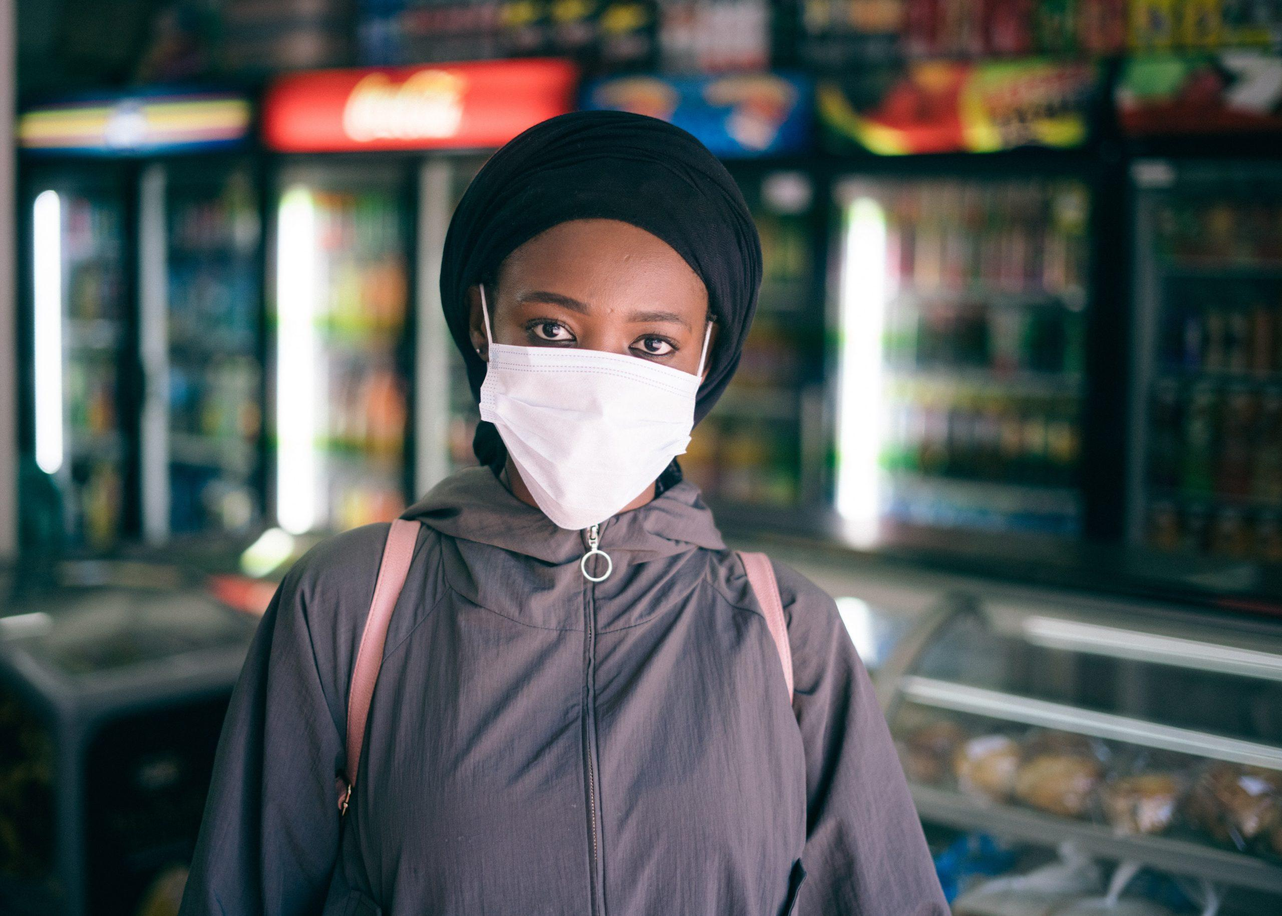Wearing Mask: (413, 4, 817, 573)
